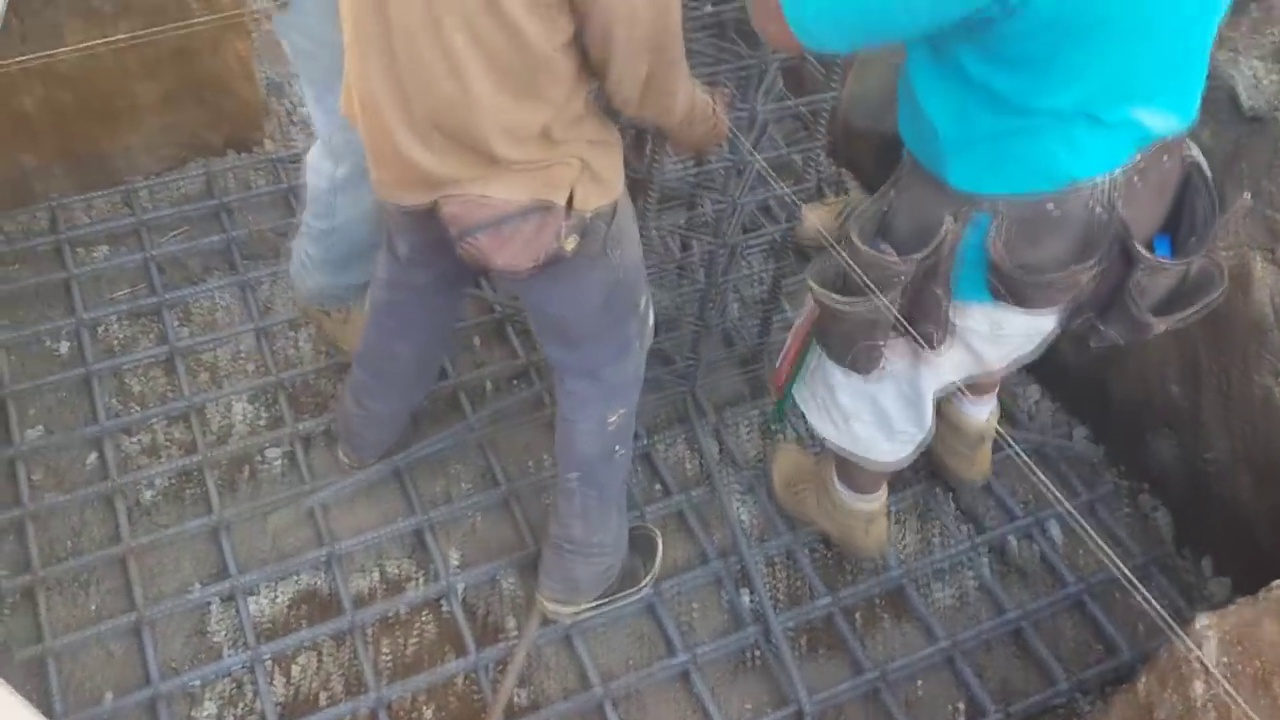person: (741, 0, 1215, 557), (329, 0, 724, 619), (240, 0, 428, 453)
